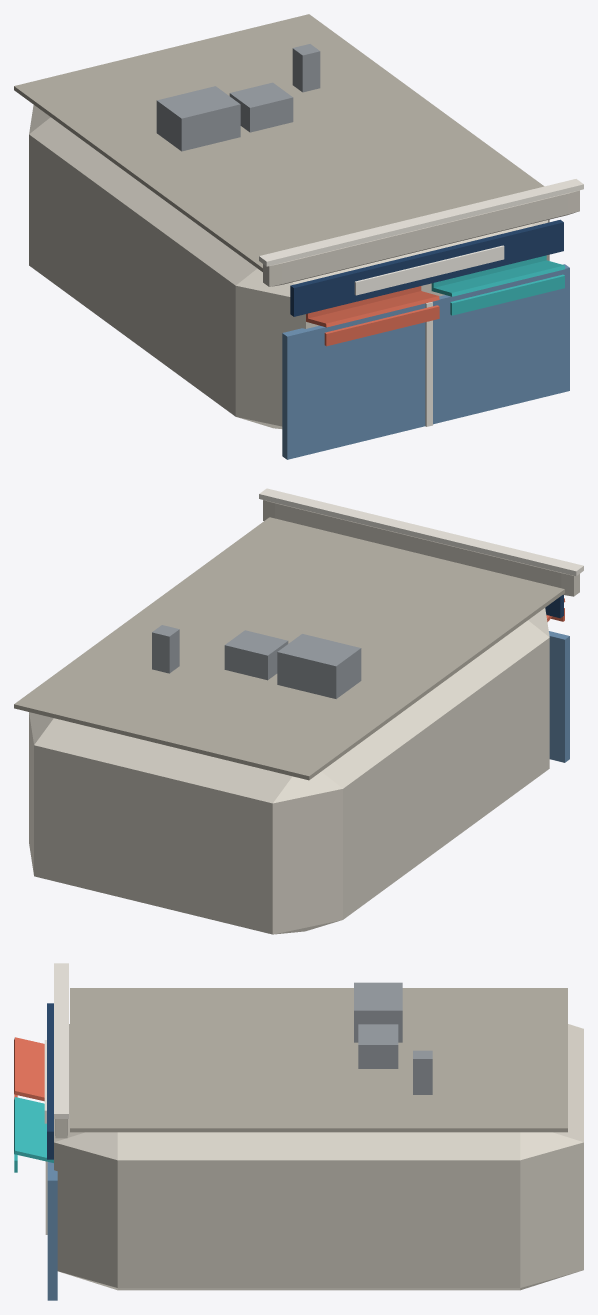
File: shop_w8_f1_stripe.glb
The picture shows the model from 3 angles, top to bottom: view 1: azimuth 30°, elevation 25°; view 2: azimuth 150°, elevation 25°; view 3: azimuth 270°, elevation 25°; orthographic projection. The views are drawn at different scales.
Parts seen in each view (by area): view 1: roofslab, walls, shopglass, parapet, fascia, hvac, pcap, hvac2, fasciatx, valance, awn, valance.001 (+5 smaller); view 2: walls, roofslab, parapet, hvac, pcap, shopglass, hvac2, pipe; view 3: walls, roofslab, pcap, hvac, awn.001, hvac2, awn, shopglass, fascia, pipe.
Part boxes in pixels (x1,y1,x2,y2): roofslab: [14, 14, 544, 271]; walls: [29, 105, 549, 428]; shopglass: [282, 264, 569, 459]; parapet: [263, 190, 579, 286]; fascia: [290, 219, 563, 316]; hvac: [156, 86, 240, 151]; pcap: [259, 179, 583, 266]; hvac2: [229, 82, 293, 132]; fasciatx: [354, 245, 504, 295]; valance: [324, 305, 439, 346]; awn: [306, 291, 439, 327]; valance.001: [450, 274, 564, 315]; walls: [29, 608, 549, 934]; roofslab: [14, 517, 564, 780]; parapet: [263, 500, 579, 596]; hvac: [277, 634, 361, 698]; pcap: [259, 488, 583, 576]; shopglass: [549, 631, 569, 762]; hvac2: [224, 630, 288, 680]; pipe: [152, 625, 179, 673]; walls: [54, 1024, 583, 1290]; roofslab: [70, 988, 567, 1132]; pcap: [54, 963, 68, 1118]; hvac: [354, 982, 402, 1042]; awn.001: [14, 1097, 53, 1162]; hvac2: [358, 1024, 398, 1068]; awn: [14, 1037, 44, 1101]; shopglass: [47, 1162, 57, 1300]; fascia: [47, 1003, 53, 1159]; pipe: [413, 1050, 432, 1094].
Bounding box in the file's own units: 8.08 × 5.3 × 12.91.
